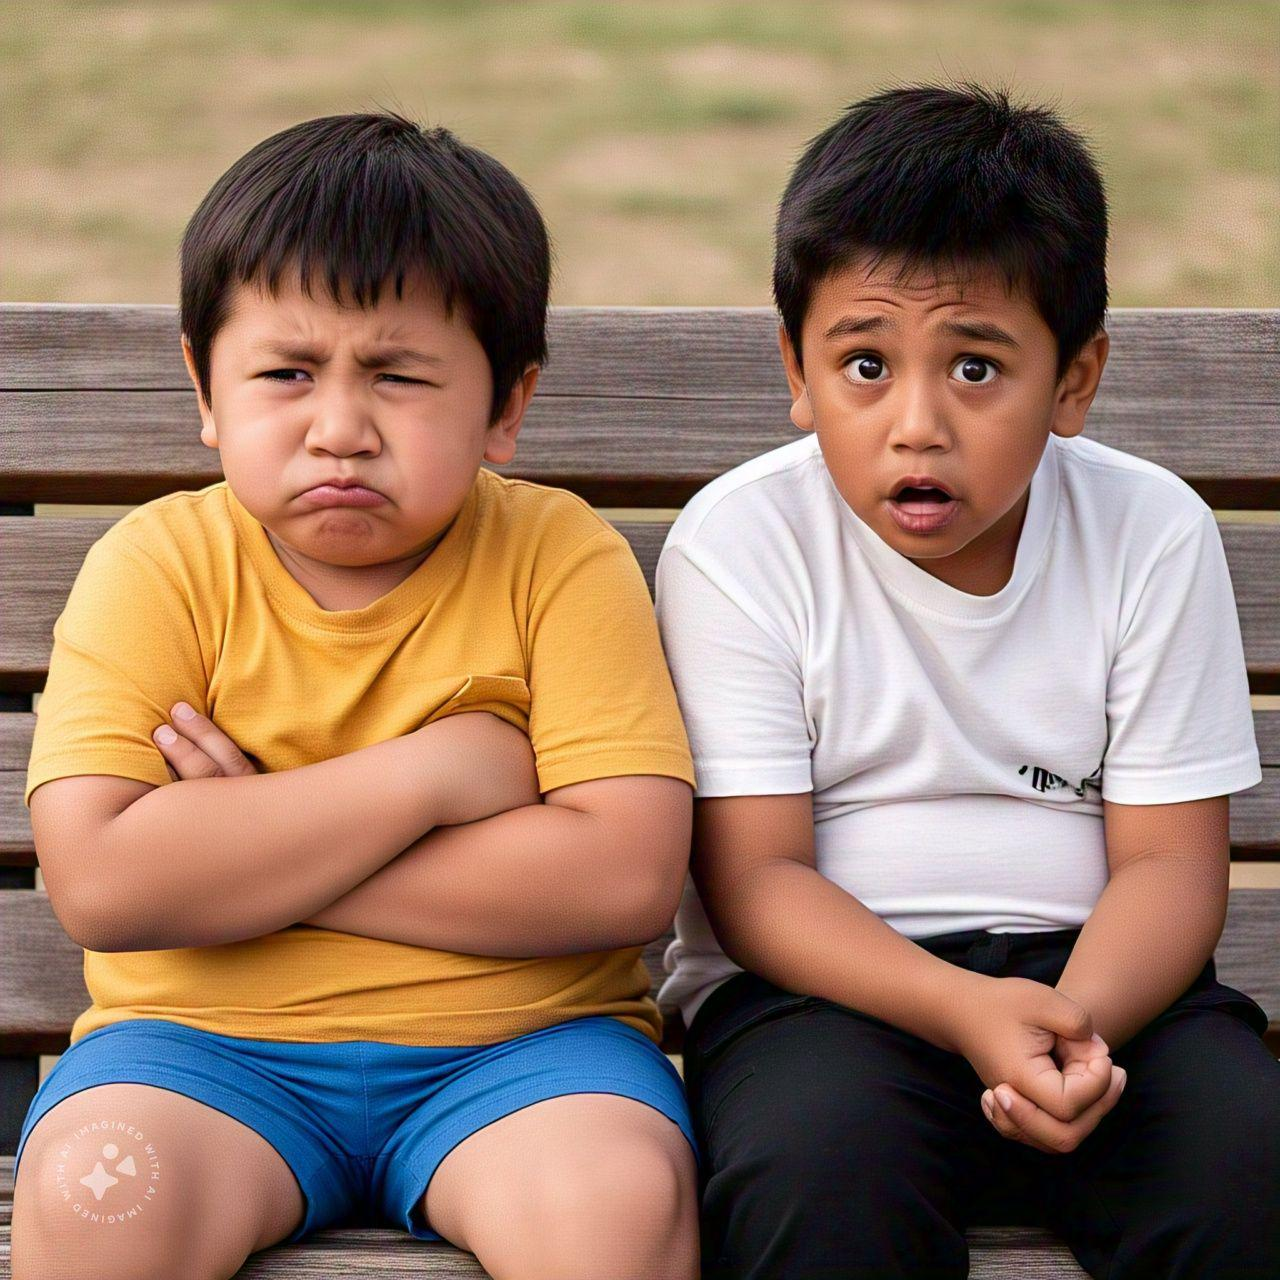surpreso: (785, 223, 1083, 570)
triste: (203, 245, 516, 570)
